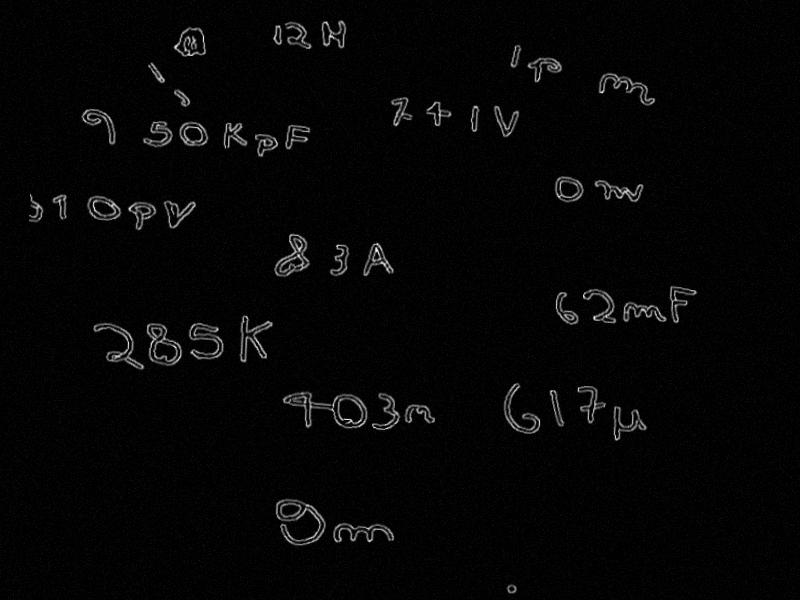0: (328, 390, 370, 433), (84, 193, 124, 224), (550, 172, 585, 207), (175, 118, 212, 151)
1: (546, 389, 567, 428), (51, 191, 70, 222), (469, 102, 482, 134), (508, 43, 523, 70), (272, 23, 284, 47)
2: (88, 318, 147, 371), (577, 285, 620, 326), (282, 19, 316, 51)
3: (369, 389, 403, 435), (327, 240, 352, 281)
4: (277, 388, 335, 431), (422, 98, 458, 135)
5: (183, 319, 226, 364), (139, 116, 175, 151)
6: (497, 378, 546, 437), (550, 290, 582, 328)
7: (573, 382, 609, 426), (388, 94, 414, 129)
8: (271, 229, 314, 283), (141, 319, 185, 369), (29, 188, 47, 228)
9: (270, 495, 329, 551), (80, 105, 119, 146)
A: (362, 241, 396, 280)
F: (667, 284, 698, 324), (283, 121, 313, 149)
V: (162, 199, 197, 232), (489, 104, 519, 139)
k: (235, 311, 274, 367), (220, 119, 250, 154)
m: (596, 70, 657, 108), (331, 517, 395, 550), (591, 177, 647, 205), (620, 299, 670, 326)
n: (401, 401, 440, 429)
p: (526, 54, 564, 85), (126, 199, 158, 233), (251, 131, 280, 161)
u: (609, 403, 648, 447), (320, 17, 351, 50)
